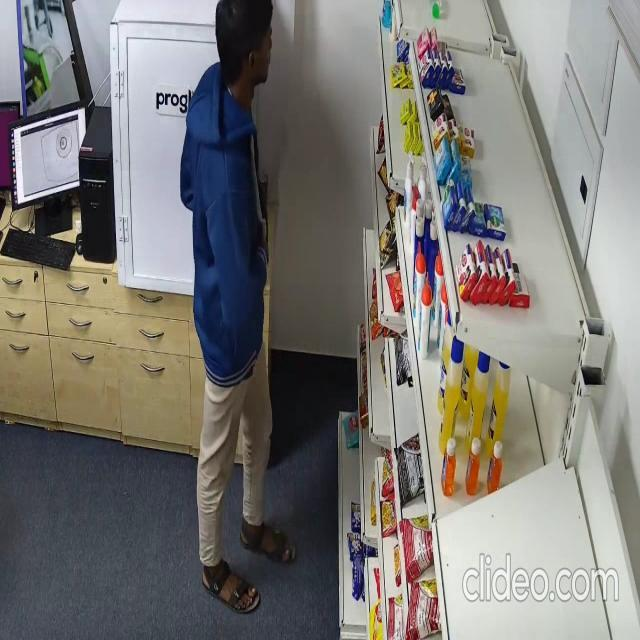Shoplifting: (173, 0, 288, 582)
